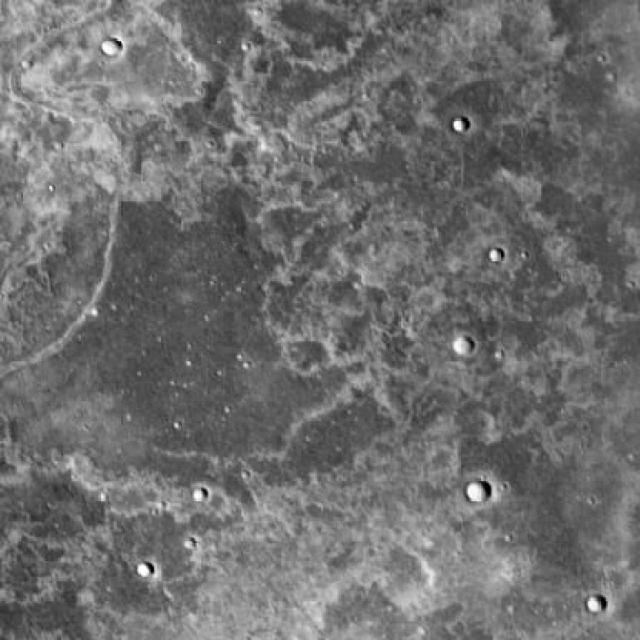crater: (466, 479, 492, 504), (451, 335, 475, 356), (101, 38, 124, 58), (587, 596, 608, 616), (452, 117, 470, 132)
